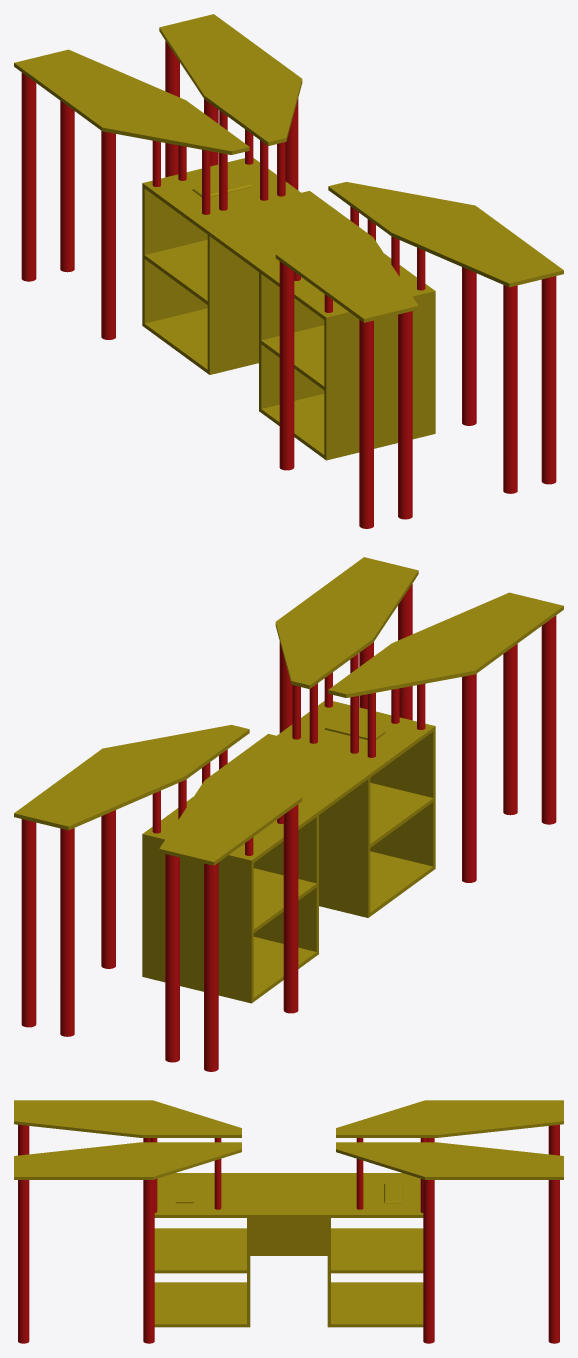
File: asd.FBX
The picture shows the model from 3 angles, top to bottom: view 1: azimuth 30°, elevation 25°; view 2: azimuth 150°, elevation 25°; view 3: azimuth 270°, elevation 25°; orthographic projection. The views are drawn at different scales.
Visible parts, largest first — view 1: Ð_Ð²ÐµÑ_Ð_Ð_Ðµ_Ñ_ÐµÐ_Ð_2; view 2: Ð_Ð²ÐµÑ_Ð_Ð_Ðµ_Ñ_ÐµÐ_Ð_2; view 3: Ð_Ð²ÐµÑ_Ð_Ð_Ðµ_Ñ_ÐµÐ_Ð_2.
Boxes of the visible parts, x1=… form: Ð_Ð²ÐµÑ_Ð_Ð_Ðµ_Ñ_ÐµÐ_Ð_2: x1=14, y1=14, x2=563, y2=528; Ð_Ð²ÐµÑ_Ð_Ð_Ðµ_Ñ_ÐµÐ_Ð_2: x1=14, y1=557, x2=563, y2=1071; Ð_Ð²ÐµÑ_Ð_Ð_Ðµ_Ñ_ÐµÐ_Ð_2: x1=14, y1=1100, x2=563, y2=1343.
Size of the model in its own units: 1098 by 1120 by 3331.
